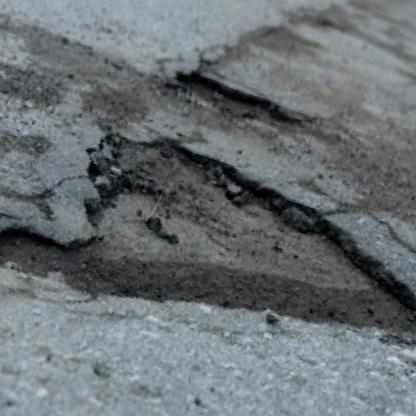pothole: (40, 124, 416, 377), (164, 63, 309, 143)
